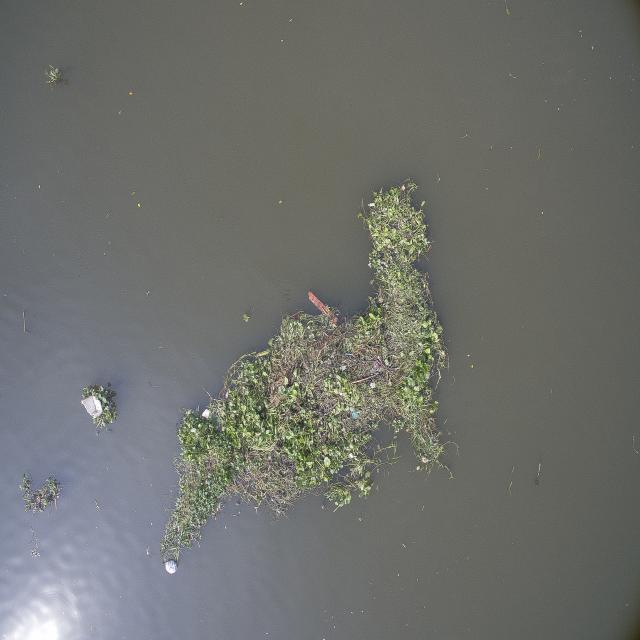Plastic: (81, 392, 103, 416), (165, 557, 177, 575), (200, 408, 211, 419)
